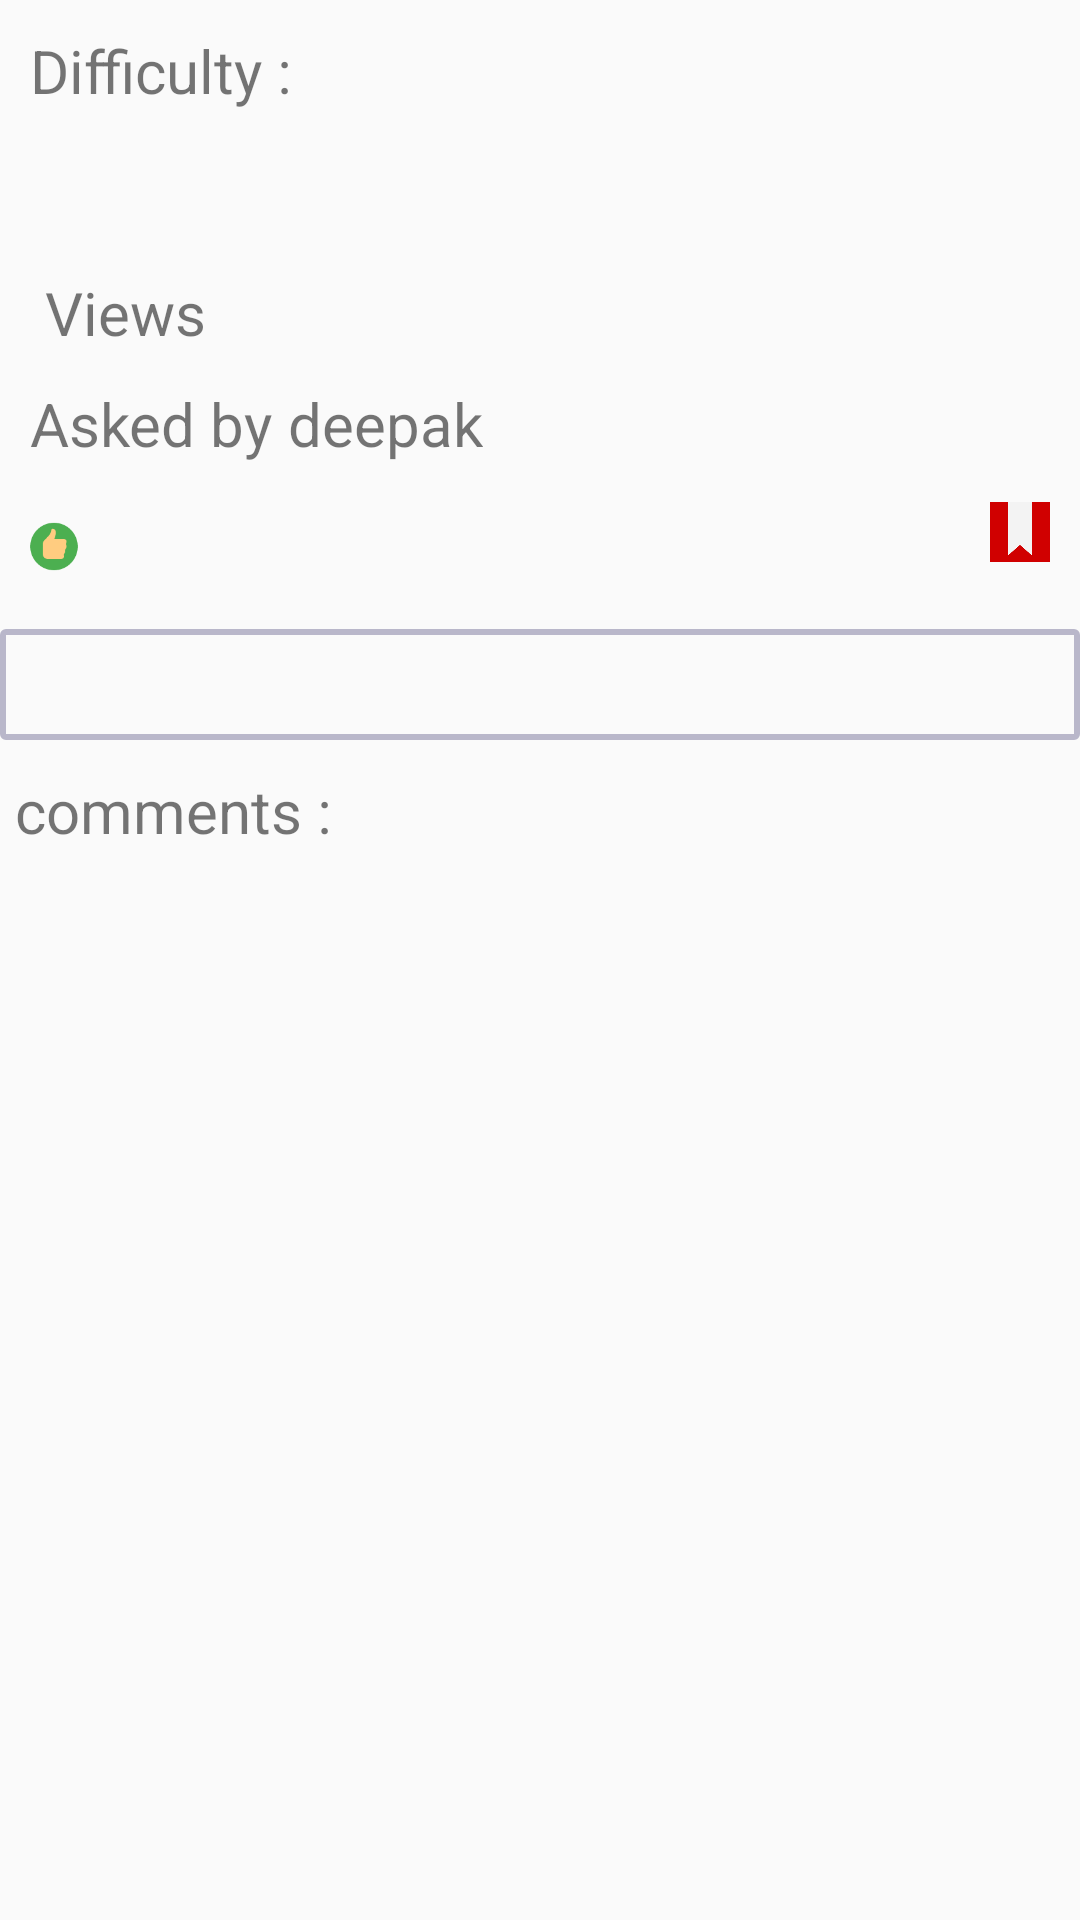

Named icons in this screenshot (1080px x 1920px) and their bounding boxes, BBox(x1, y1, x2, y2):
bookmark: BBox(990, 502, 1050, 562)
liked: BBox(30, 523, 78, 570)
